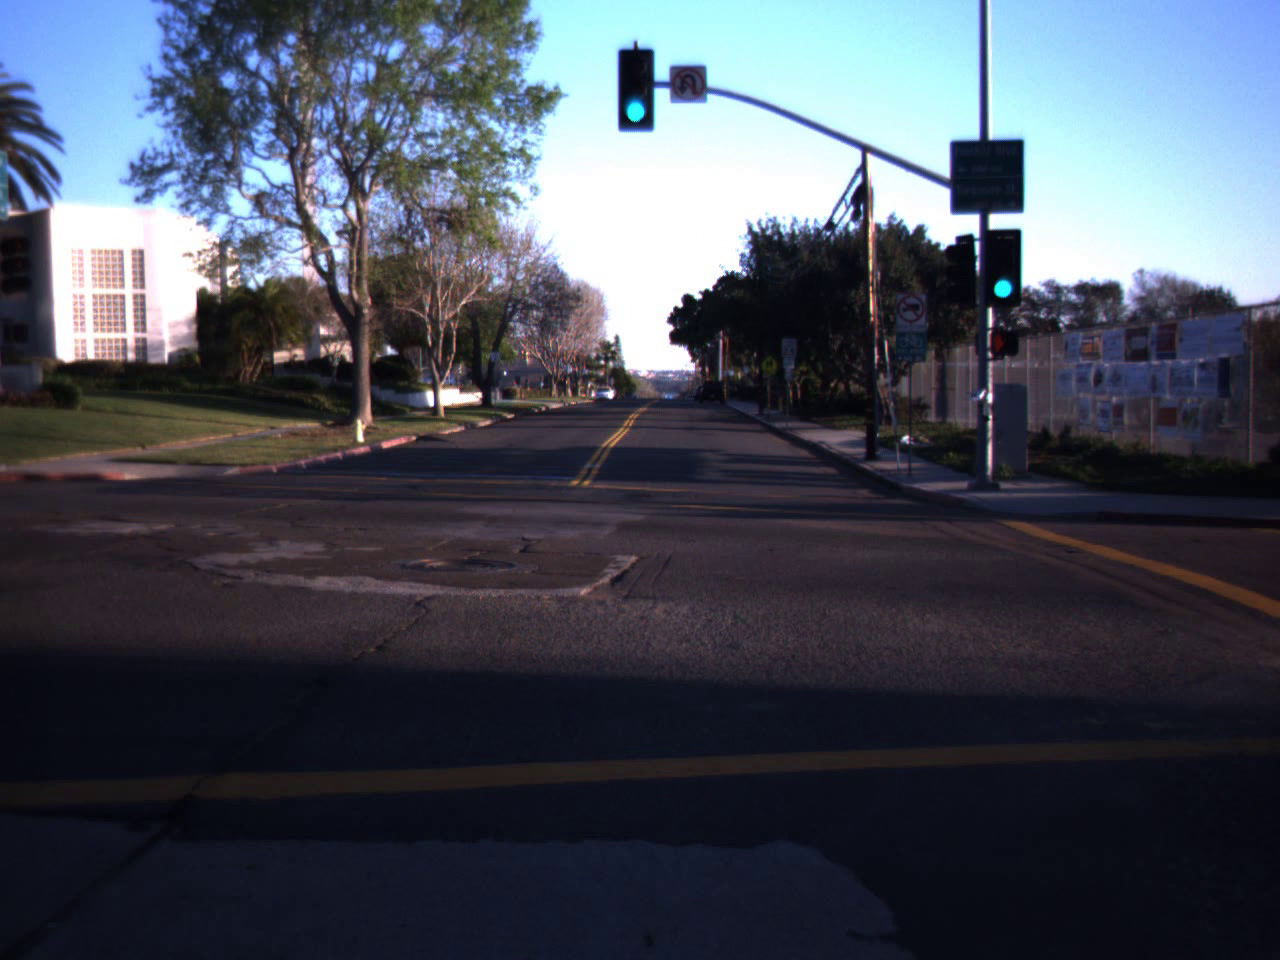go: (612, 32, 660, 132), (979, 220, 1027, 305)
